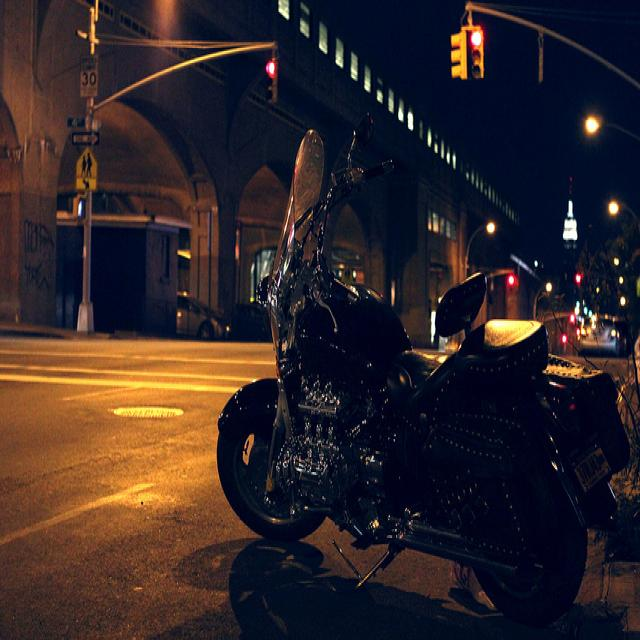Motorbike: (193, 169, 640, 640)
